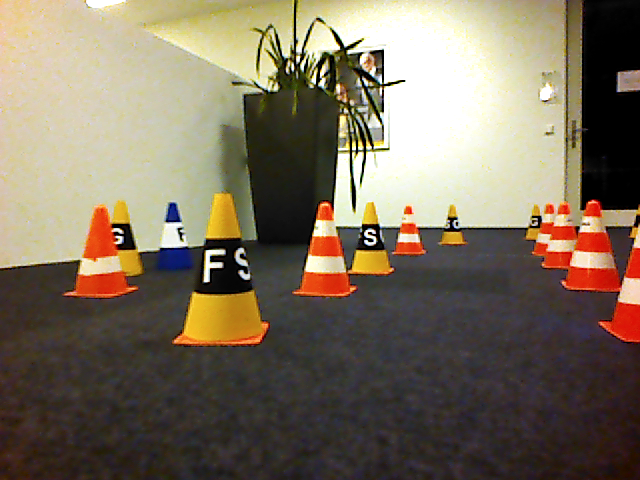orangeconesmall: (294, 201, 358, 300), (562, 199, 622, 293), (544, 203, 575, 269), (392, 205, 428, 255)
yellowcone: (170, 192, 271, 348), (349, 201, 395, 277)
